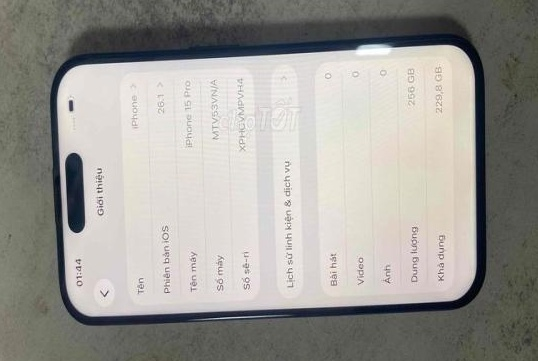screen_defect: (349, 35, 395, 60)
